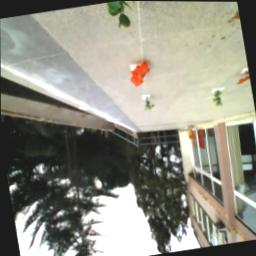herb: (108, 2, 135, 31), (211, 88, 225, 112), (142, 97, 157, 113)
wild: (129, 60, 154, 87), (235, 72, 252, 88)
